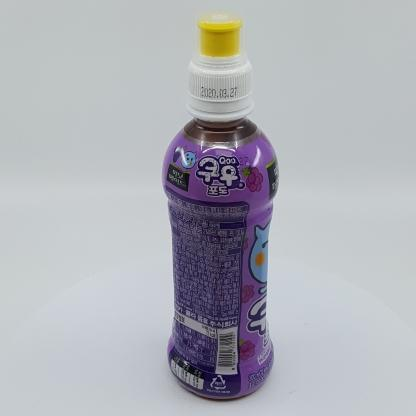------300ML: (162, 8, 279, 399)
